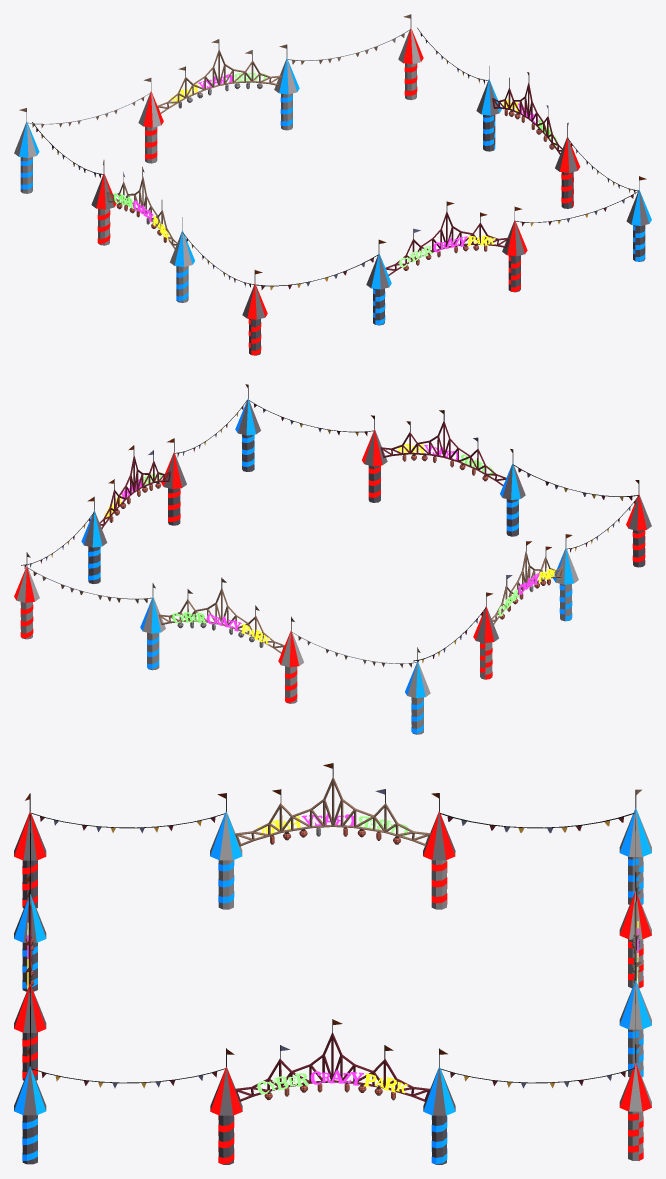
The model's file is decoracion.glb.
3 renders of one model, top to bottom at view 1: azimuth 30°, elevation 25°; view 2: azimuth 150°, elevation 25°; view 3: azimuth 270°, elevation 25°, orthographic. The views are drawn at different scales.
Parts seen in each view (by area): view 1: NurbsPath_058_env_main_wires_0.005; view 2: NurbsPath_058_env_main_wires_0.005; view 3: NurbsPath_058_env_main_wires_0.005.
Part boxes in pixels (bbox=[...]): NurbsPath_058_env_main_wires_0.005: bbox=[14, 14, 651, 355]; NurbsPath_058_env_main_wires_0.005: bbox=[14, 384, 651, 734]; NurbsPath_058_env_main_wires_0.005: bbox=[14, 763, 651, 1164].
Size of the model in its own units: 77.75 by 19 by 76.97.
Materials: 51 (27 with a texture image).
